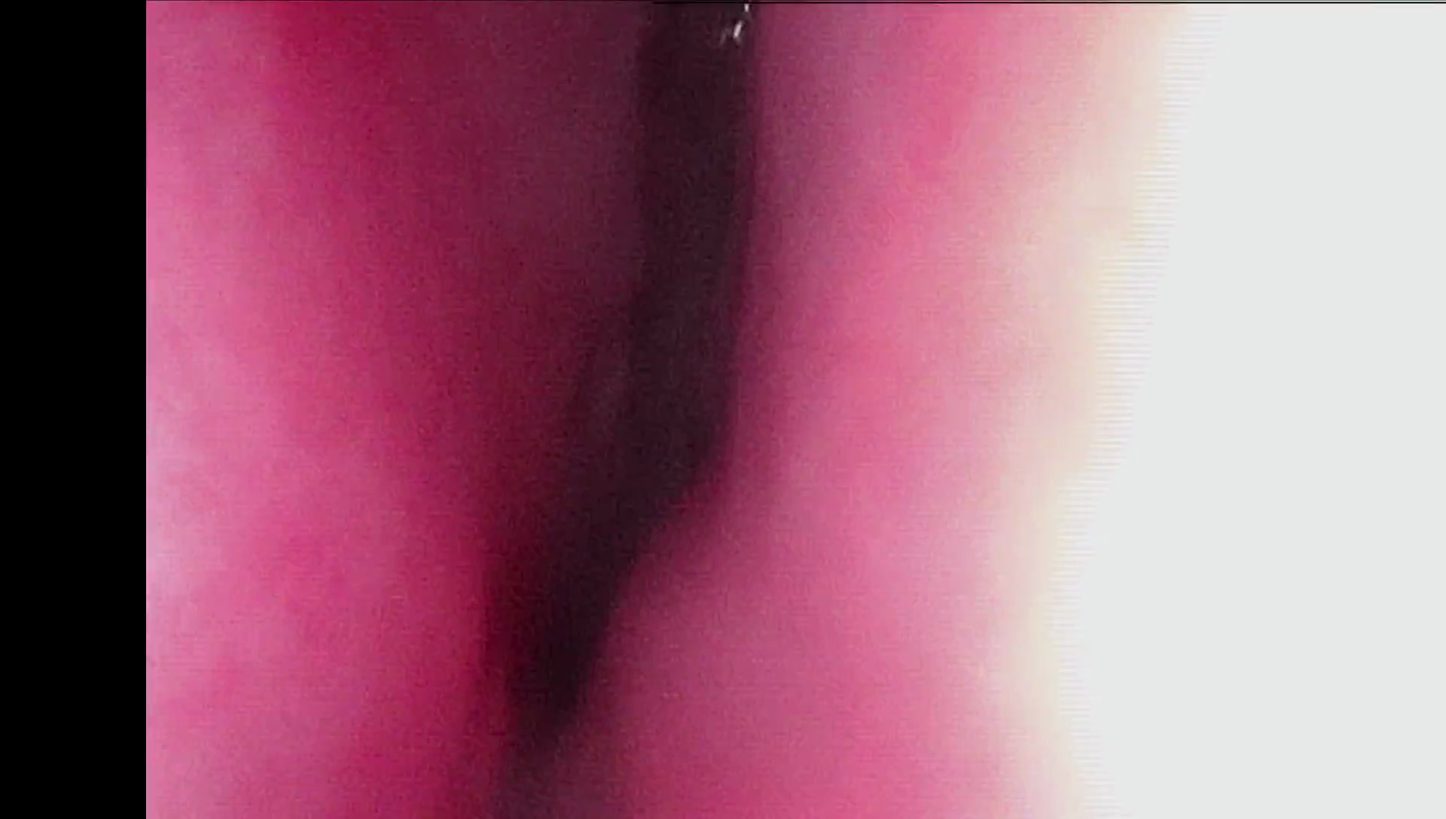close_wall: (852, 7, 1446, 819), (152, 87, 377, 819)
next: (468, 358, 757, 757)
